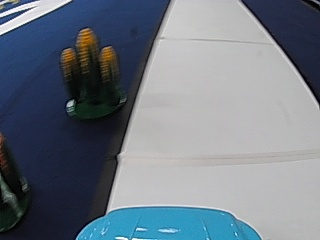corn: (58, 24, 125, 124)
